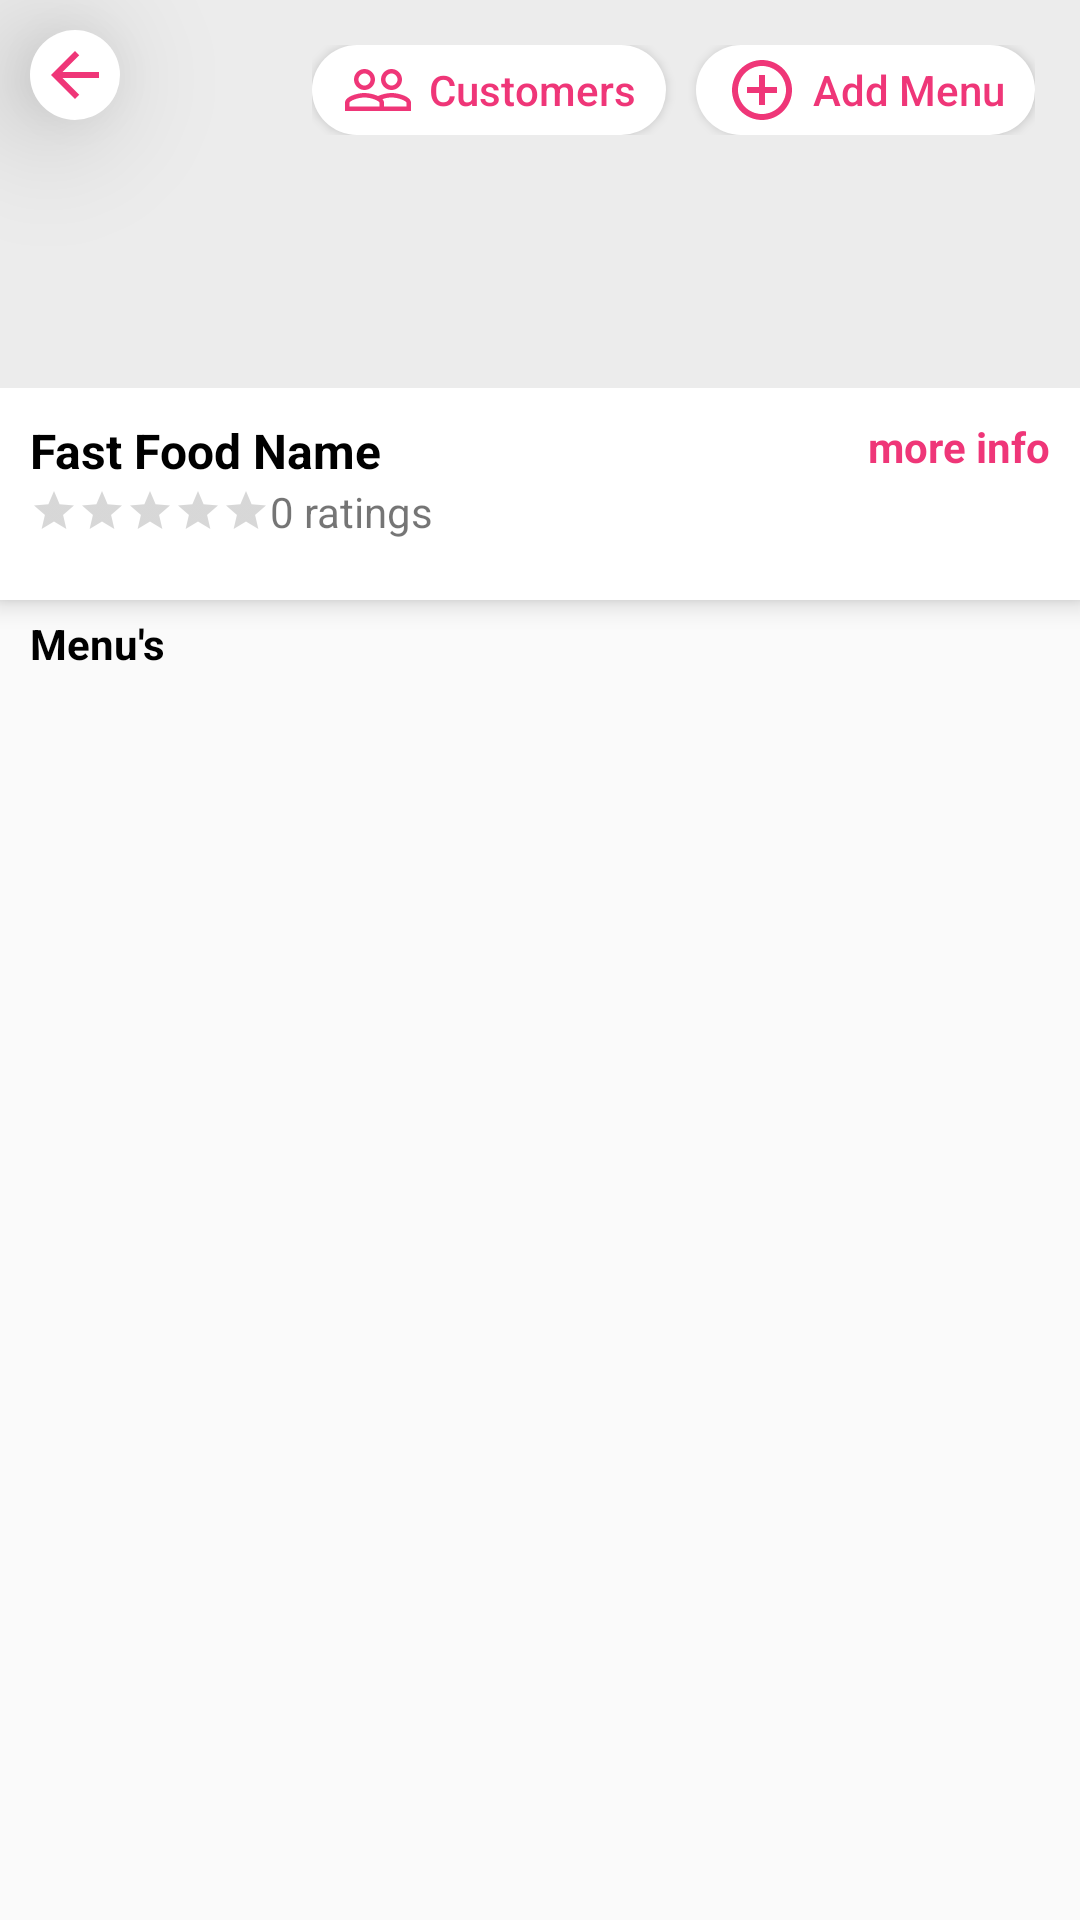

Named icons in this screenshot (1080 x 1920) and their centers, (x=x, y=y):
back: (x=75, y=75)
